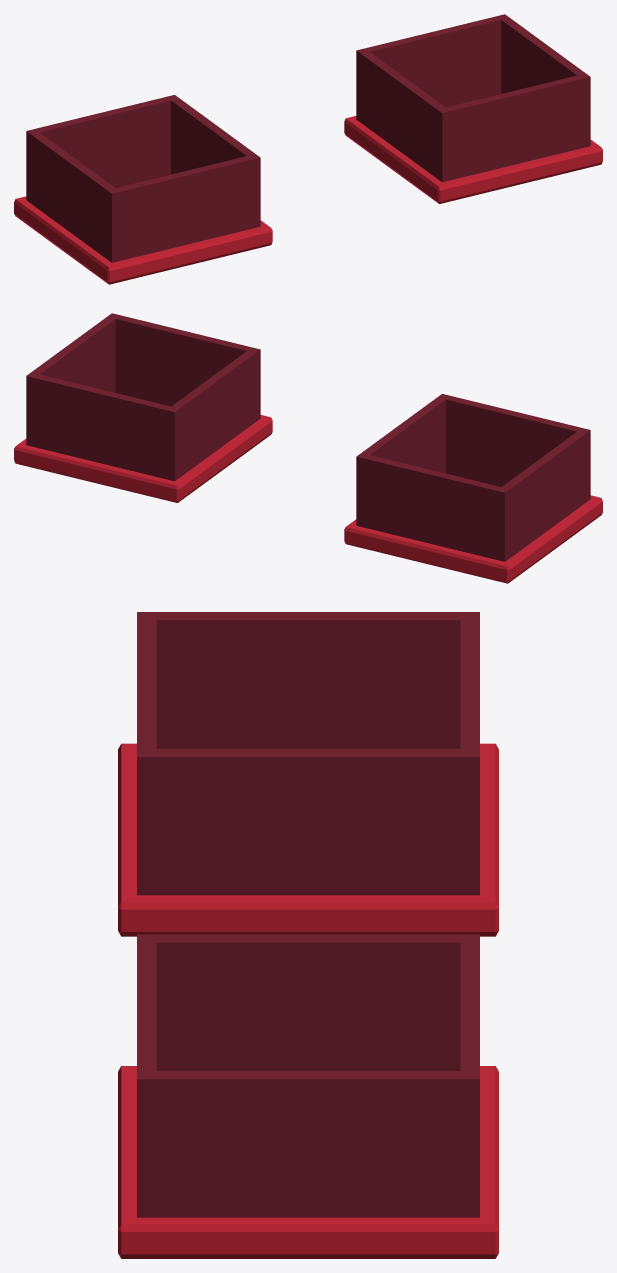
File: ark_bottom_001_msh (1).fbx
3 renders of one model, top to bottom at view 1: azimuth 30°, elevation 25°; view 2: azimuth 150°, elevation 25°; view 3: azimuth 270°, elevation 25°, orthographic. The views are drawn at different scales.
Parts seen in each view (by area): view 1: ark_bottom_001_msh; view 2: ark_bottom_001_msh; view 3: ark_bottom_001_msh.
Boxes of the visible parts, x1,y1,x2,y2 form: ark_bottom_001_msh: [14, 14, 602, 284]; ark_bottom_001_msh: [14, 313, 602, 583]; ark_bottom_001_msh: [118, 612, 498, 1258].
Size of the model in its own units: 600 by 100 by 200.
